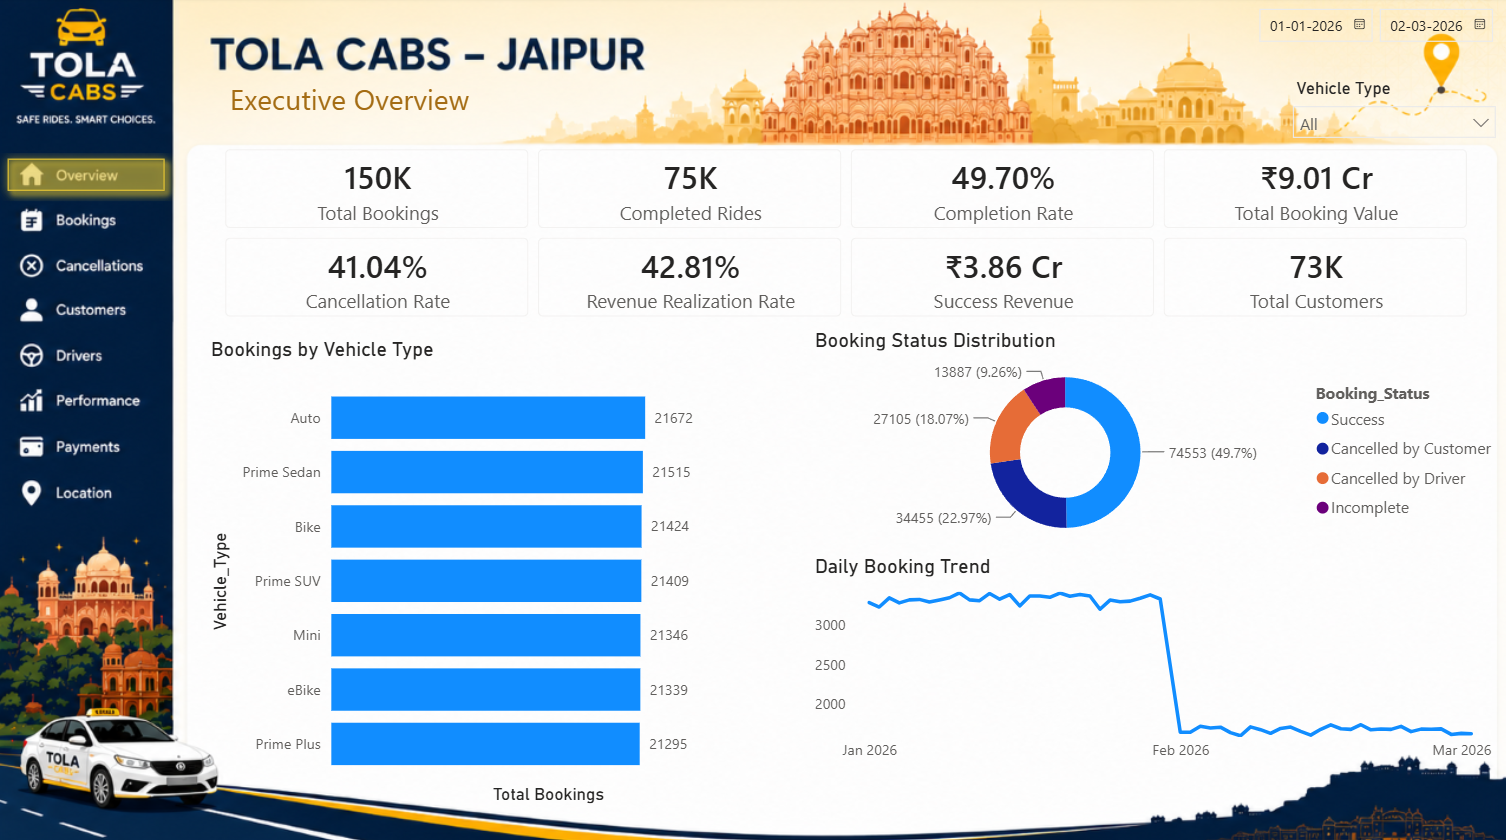

Layout of this report page (visuals, bound fields, positions):
{"tool":"powerbi","page":{"name":"01_Overview","canvas":[1280,720],"ordinal":0},"visuals":[{"type":"lineChart","title":"Daily Booking Trend","fields":{"Category":["Calendar.Date"],"Y":["Calendar.Total Bookings"]},"box":[688,472,592,184],"z":0},{"type":"donutChart","title":"Booking Status Distribution","fields":{"Category":["tola bookings.Booking_Status"],"Y":["Calendar.Total Bookings"]},"box":[688,280,592,192],"z":1000},{"type":"shape","box":[0,127.8,151,45.3],"z":2000},{"type":"actionButton","box":[1.2,365.9,151,39.5],"z":3000},{"type":"actionButton","box":[0,401.1,150.6,42.9],"z":4000},{"type":"actionButton","box":[1.2,326.4,149.8,39.5],"z":5000},{"type":"actionButton","box":[0,286.9,149.8,39.5],"z":6000},{"type":"actionButton","box":[1.2,247.4,149.8,39.5],"z":7000},{"type":"actionButton","box":[1.2,210.2,149.8,39.5],"z":8000},{"type":"actionButton","box":[0,170.7,149.8,39.5],"z":9000},{"type":"clusteredBarChart","title":"Bookings by Vehicle Type","fields":{"Category":["tola bookings.Vehicle_Type"],"Y":["_Measures.Total Bookings"]},"box":[176,288,480,400],"z":10000},{"type":"cardVisual","fields":{"Data":["Calendar.Total Bookings","Calendar.Completed Rides","Calendar.Completation Rates","_Measures.Total Booking Value Cr","Calendar.Cancellation Rate","Calendar.Revenue Realization Rate","_Measures.Success Revenue Display","_Measures.Total Customers"]},"box":[176,112,1088,176],"z":11000},{"type":"slicer","fields":{"Values":["tola bookings.Vehicle_Type"]},"box":[1088,64,192,64],"z":12000},{"type":"slicer","fields":{"Values":["Calendar.Date"]},"box":[1056,0,219.5,69.7],"z":13000},{"type":"textbox","box":[192,64,240,48],"z":14000}]}

Visuals, with their boxes on the page's 1280x720 design canvas (x1, y1, x2, y2). These are canvas units, not pixel positions in the 1506x840 screenshot, which may show the page scaled, cropped or inside an application window:
"Daily Booking Trend" lineChart: (x1=688, y1=472, x2=1280, y2=656)
"Booking Status Distribution" donutChart: (x1=688, y1=280, x2=1280, y2=472)
shape: (x1=0, y1=128, x2=151, y2=173)
actionButton: (x1=1, y1=366, x2=152, y2=405)
actionButton: (x1=0, y1=401, x2=151, y2=444)
actionButton: (x1=1, y1=326, x2=151, y2=366)
actionButton: (x1=0, y1=287, x2=150, y2=326)
actionButton: (x1=1, y1=247, x2=151, y2=287)
actionButton: (x1=1, y1=210, x2=151, y2=250)
actionButton: (x1=0, y1=171, x2=150, y2=210)
"Bookings by Vehicle Type" clusteredBarChart: (x1=176, y1=288, x2=656, y2=688)
cardVisual - Calendar.Total Bookings x Calendar.Completed Rides: (x1=176, y1=112, x2=1264, y2=288)
slicer - tola bookings.Vehicle_Type: (x1=1088, y1=64, x2=1280, y2=128)
slicer - Calendar.Date: (x1=1056, y1=0, x2=1276, y2=70)
textbox: (x1=192, y1=64, x2=432, y2=112)
